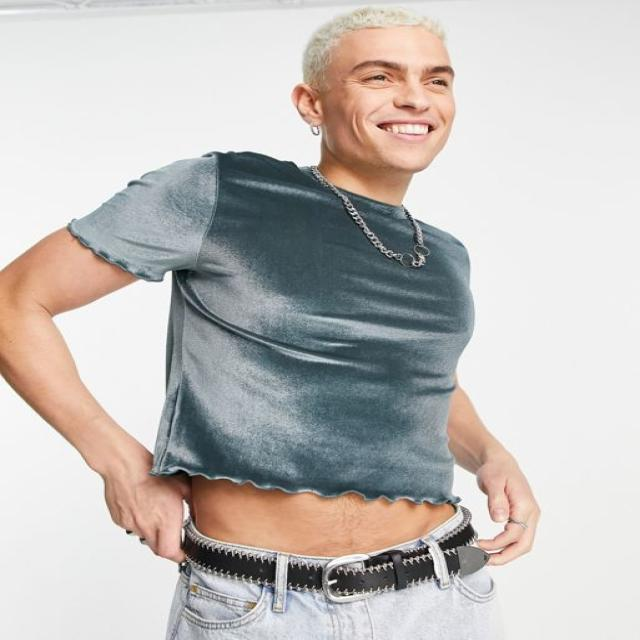tshirt: (66, 148, 479, 506)
